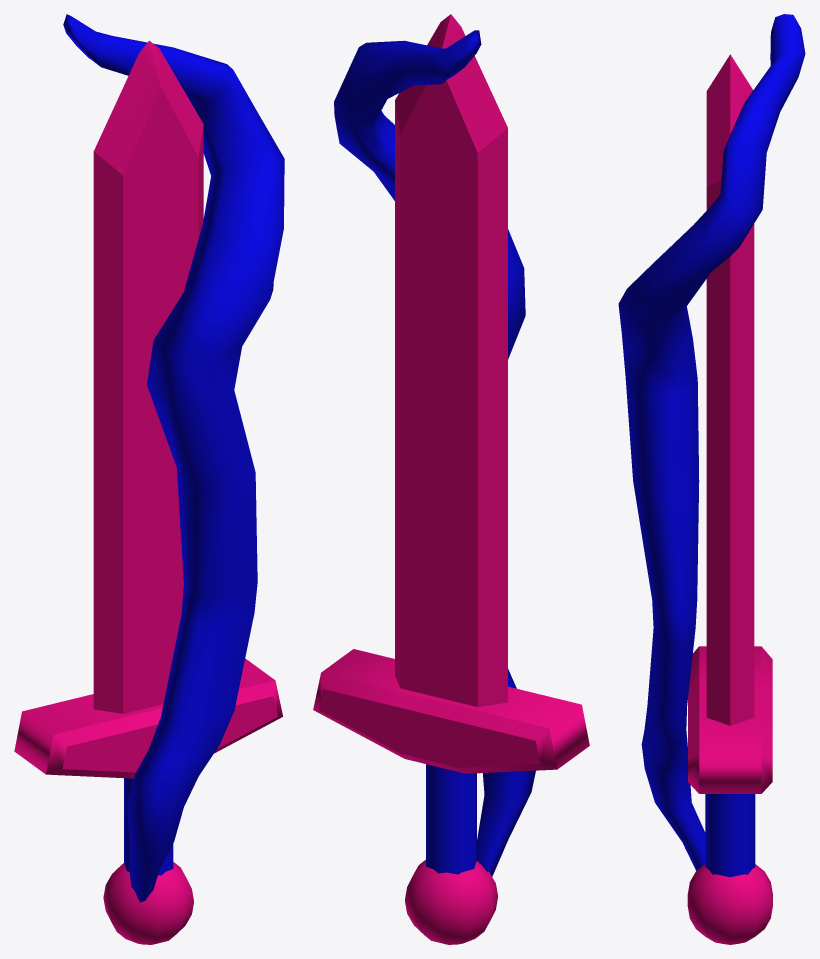
Rendered from Tentacle_Sword.fbx.
3 renders of one model, left to right at view 1: azimuth 30°, elevation 25°; view 2: azimuth 150°, elevation 25°; view 3: azimuth 270°, elevation 25°, orthographic. The views are drawn at different scales.
Visible parts, largest first — view 1: Tentacle_Sword; view 2: Tentacle_Sword; view 3: Tentacle_Sword.
Boxes of the visible parts, x1,y1,x2,y2 form: Tentacle_Sword: (14,14,284,944); Tentacle_Sword: (313,14,589,944); Tentacle_Sword: (618,14,805,944).
Size of the model in its own units: 79.61 by 292 by 54.76.
